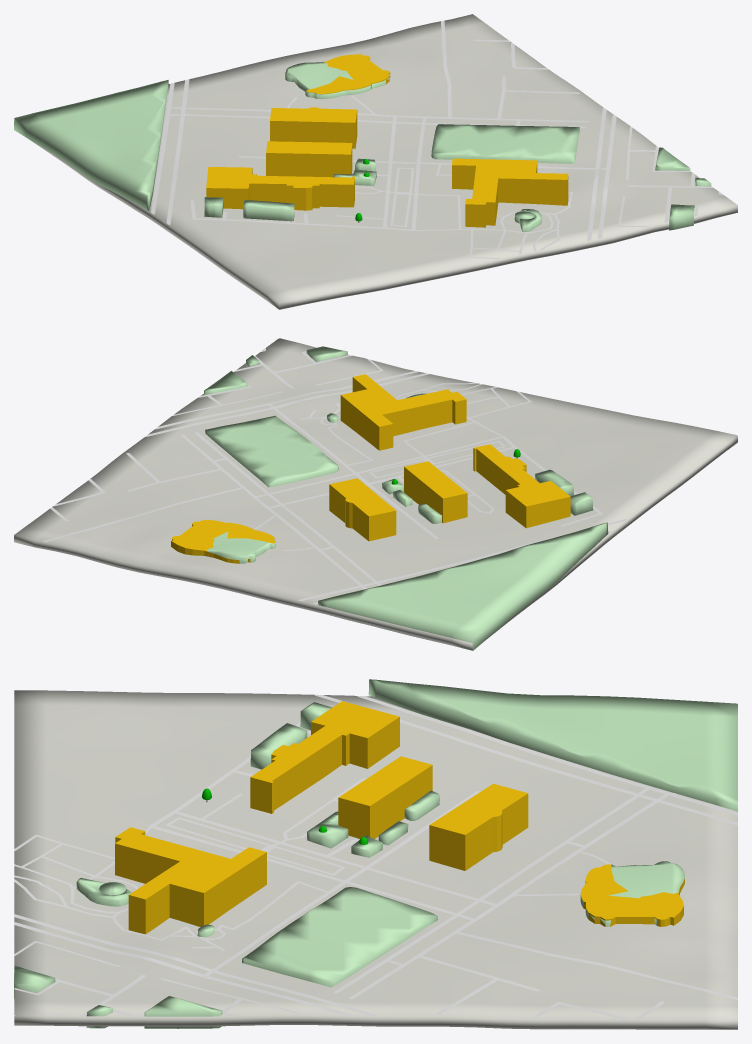
The model's file is Map.glb.
3 renders of one model, top to bottom at view 1: azimuth 30°, elevation 25°; view 2: azimuth 150°, elevation 25°; view 3: azimuth 270°, elevation 25°, orthographic. The views are drawn at different scales.
Visible parts, largest first — view 1: TPX_Ground_0, TPX_GreenAreas_0, TPX_RoadsOutlines_0, TPX_Buildings_12, TPX_Buildings_2, TPX_Buildings_0, TPX_Buildings_1, TPX_Buildings_3; view 2: TPX_Ground_0, TPX_GreenAreas_0, TPX_RoadsOutlines_0, TPX_Buildings_12, TPX_Buildings_2, TPX_Buildings_0, TPX_Buildings_1, TPX_Buildings_3; view 3: TPX_Ground_0, TPX_GreenAreas_0, TPX_RoadsOutlines_0, TPX_Buildings_12, TPX_Buildings_2, TPX_Buildings_0, TPX_Buildings_1, TPX_Buildings_3.
Boxes of the visible parts, x1,y1,x2,y2 form: TPX_Ground_0: (27, 14, 737, 309); TPX_GreenAreas_0: (14, 59, 711, 231); TPX_RoadsOutlines_0: (151, 20, 737, 258); TPX_Buildings_12: (452, 158, 568, 227); TPX_Buildings_2: (206, 167, 354, 210); TPX_Buildings_0: (270, 107, 357, 148); TPX_Buildings_1: (266, 141, 352, 177); TPX_Buildings_3: (306, 54, 390, 94); TPX_Ground_0: (14, 338, 737, 650); TPX_GreenAreas_0: (204, 346, 608, 650); TPX_RoadsOutlines_0: (43, 338, 627, 604); TPX_Buildings_12: (340, 374, 466, 450); TPX_Buildings_2: (473, 444, 570, 528); TPX_Buildings_0: (329, 478, 396, 541); TPX_Buildings_1: (404, 461, 467, 523); TPX_Buildings_3: (171, 520, 275, 563); TPX_Ground_0: (14, 690, 737, 1029); TPX_GreenAreas_0: (14, 679, 737, 1028); TPX_RoadsOutlines_0: (14, 694, 737, 1019); TPX_Buildings_12: (115, 827, 266, 934); TPX_Buildings_2: (250, 701, 399, 813); TPX_Buildings_0: (429, 783, 528, 870); TPX_Buildings_1: (338, 756, 432, 838); TPX_Buildings_3: (580, 864, 684, 926).
Size of the model in its own units: 435 by 36.24 by 436.
